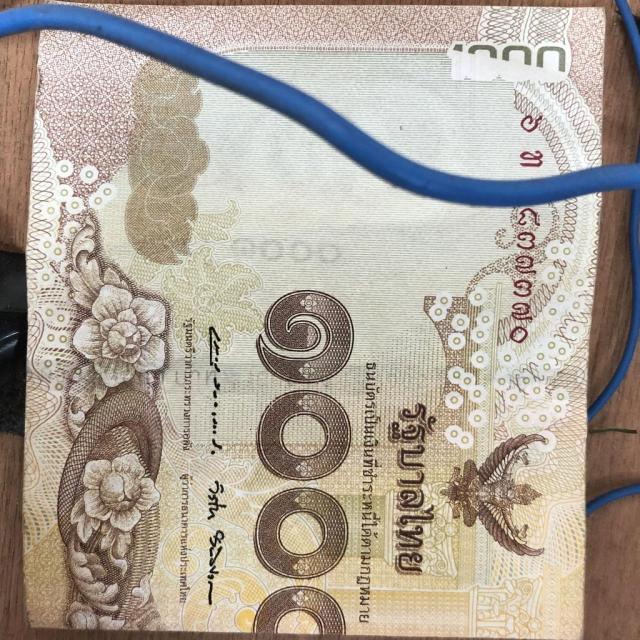THAI1000: (22, 32, 602, 639), (74, 3, 605, 179)
